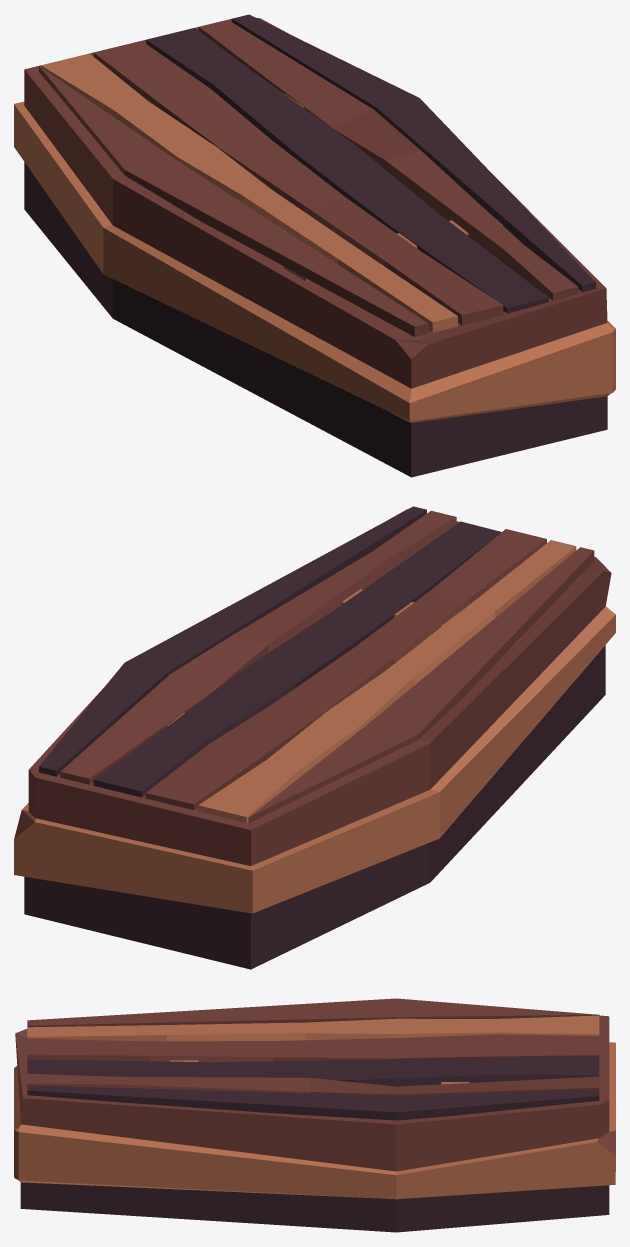
File: Casket 02.fbx
The picture shows the model from 3 angles, top to bottom: view 1: azimuth 30°, elevation 25°; view 2: azimuth 150°, elevation 25°; view 3: azimuth 270°, elevation 25°; orthographic projection. The views are drawn at different scales.
Visible parts, largest first — view 1: Casket 02 Lid, Casket 02; view 2: Casket 02 Lid, Casket 02; view 3: Casket 02, Casket 02 Lid.
Part boxes in pixels (left/top/right/bottom): Casket 02 Lid: left=39, top=14, right=596, bottom=336; Casket 02: left=14, top=18, right=615, bottom=477; Casket 02 Lid: left=39, top=506, right=594, bottom=823; Casket 02: left=14, top=508, right=615, bottom=969; Casket 02: left=14, top=1015, right=615, bottom=1232; Casket 02 Lid: left=27, top=998, right=599, bottom=1120.
Size of the model in its own units: 137 by 56.81 by 267.
